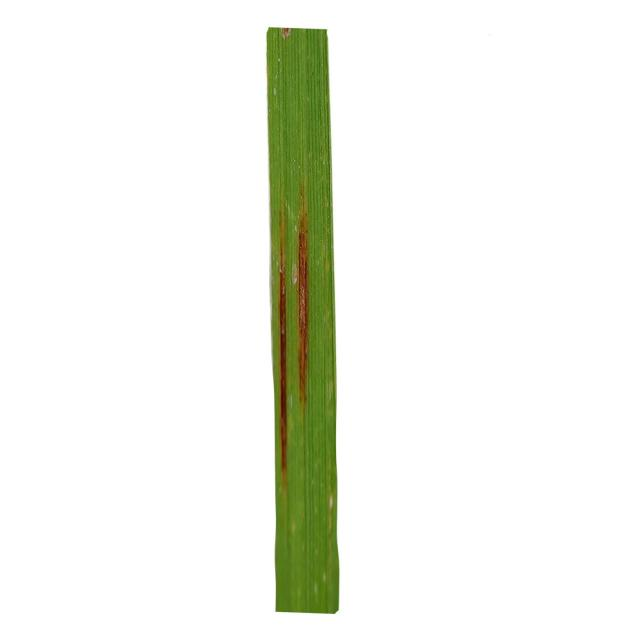Narrow brown: (214, 27, 450, 630)
